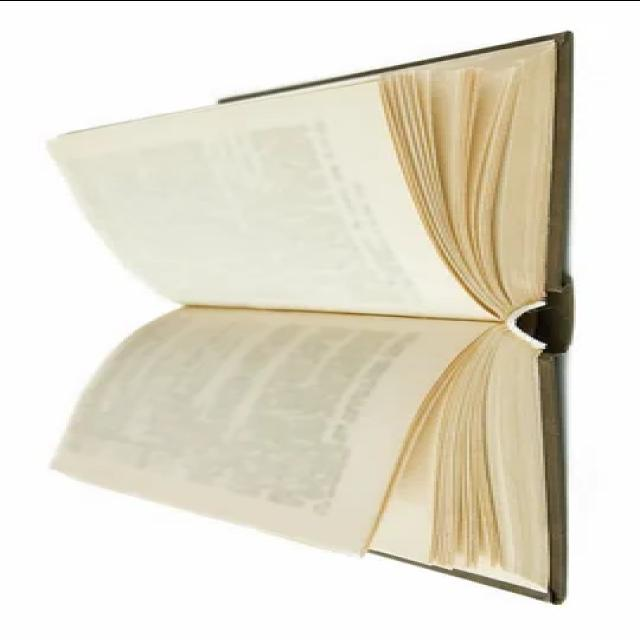book: (2, 26, 620, 607)
